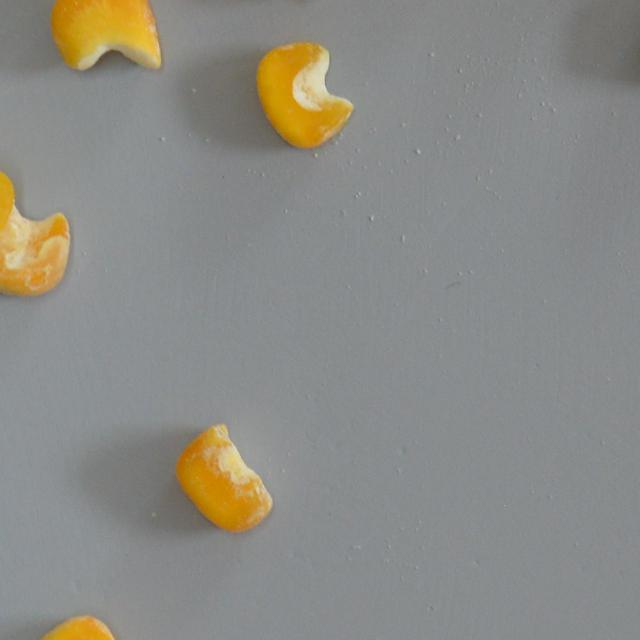no_canjicado: (46, 0, 162, 72), (28, 611, 132, 640), (0, 154, 15, 257)
no_desgerminado: (171, 422, 274, 534), (254, 40, 356, 151)
pelicula: (0, 200, 70, 297)
